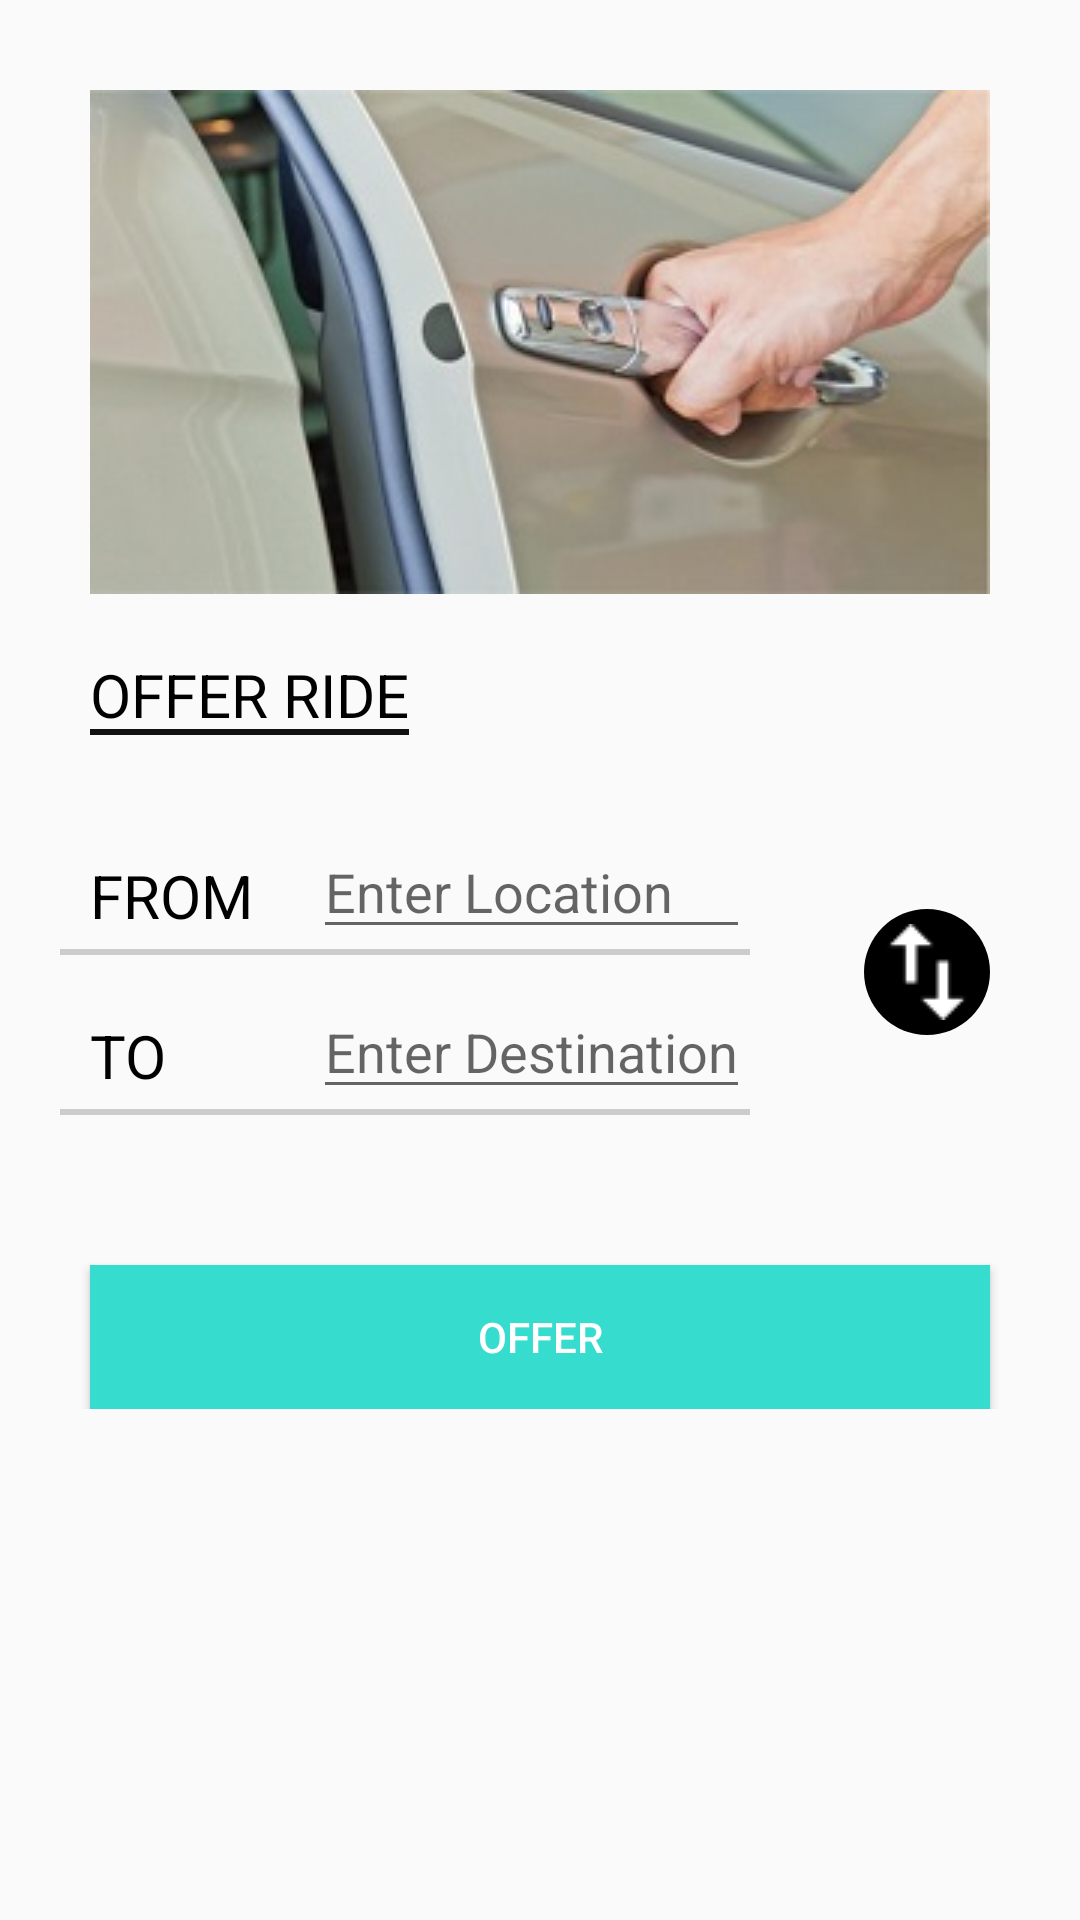

Point at icon controls on the screen. Image size 1080 x 1920, points as point (x, y).
switc: point (927, 972)
